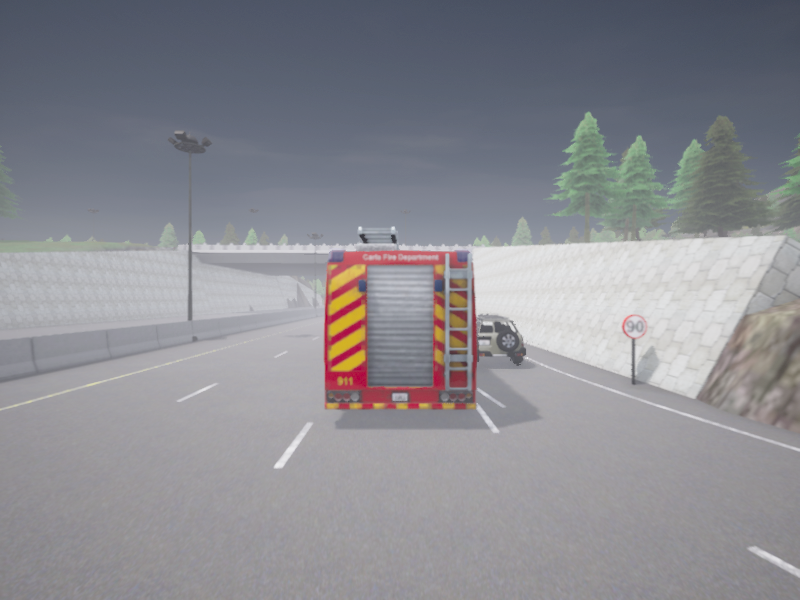vehicle: (324, 227, 476, 409), (477, 313, 525, 364)
